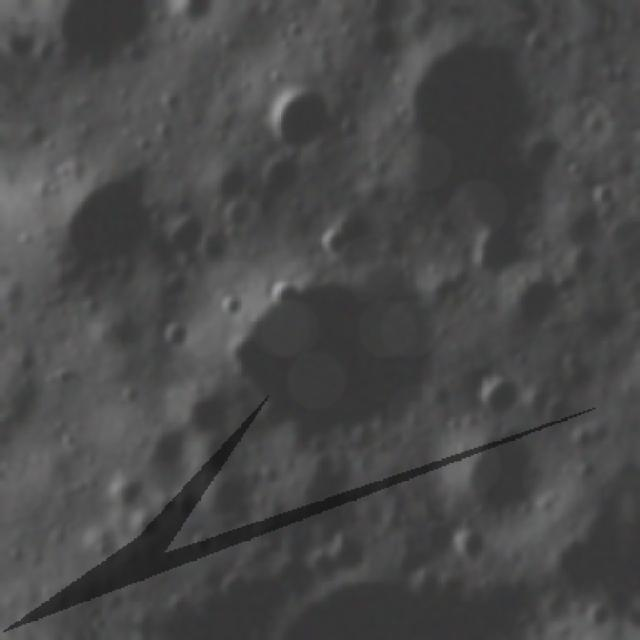crater: (213, 240, 461, 463), (361, 21, 553, 218), (416, 406, 556, 532), (38, 158, 168, 285), (41, 0, 166, 78), (249, 75, 342, 157), (486, 255, 576, 338), (199, 462, 267, 528), (194, 153, 252, 209), (140, 417, 191, 480), (472, 370, 525, 421), (314, 532, 363, 582), (191, 220, 238, 271), (102, 477, 143, 517), (167, 0, 216, 31), (579, 596, 615, 635), (313, 220, 353, 255), (124, 504, 159, 541), (215, 568, 250, 602), (586, 179, 620, 210), (160, 318, 192, 350), (217, 286, 246, 320)
